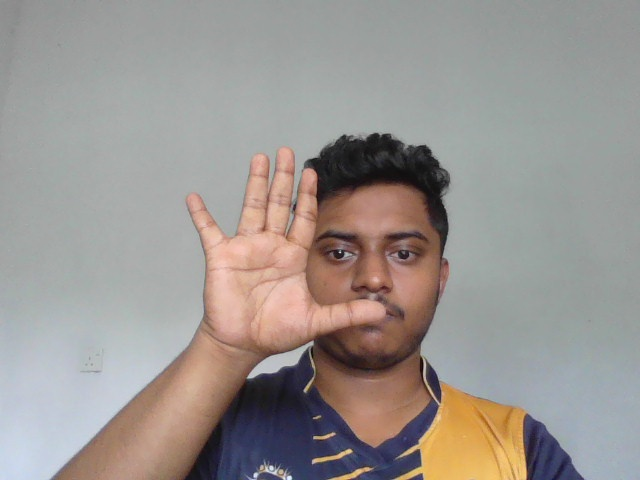Hello: (185, 145, 389, 365)
